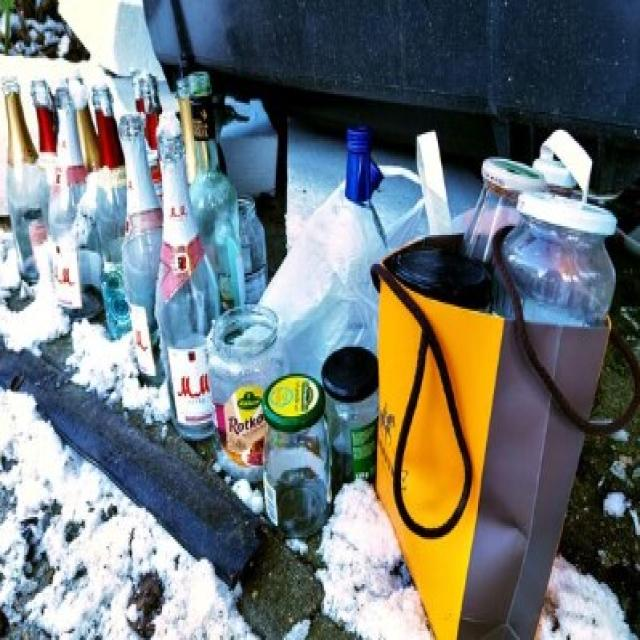electronic: (0, 57, 383, 540)
